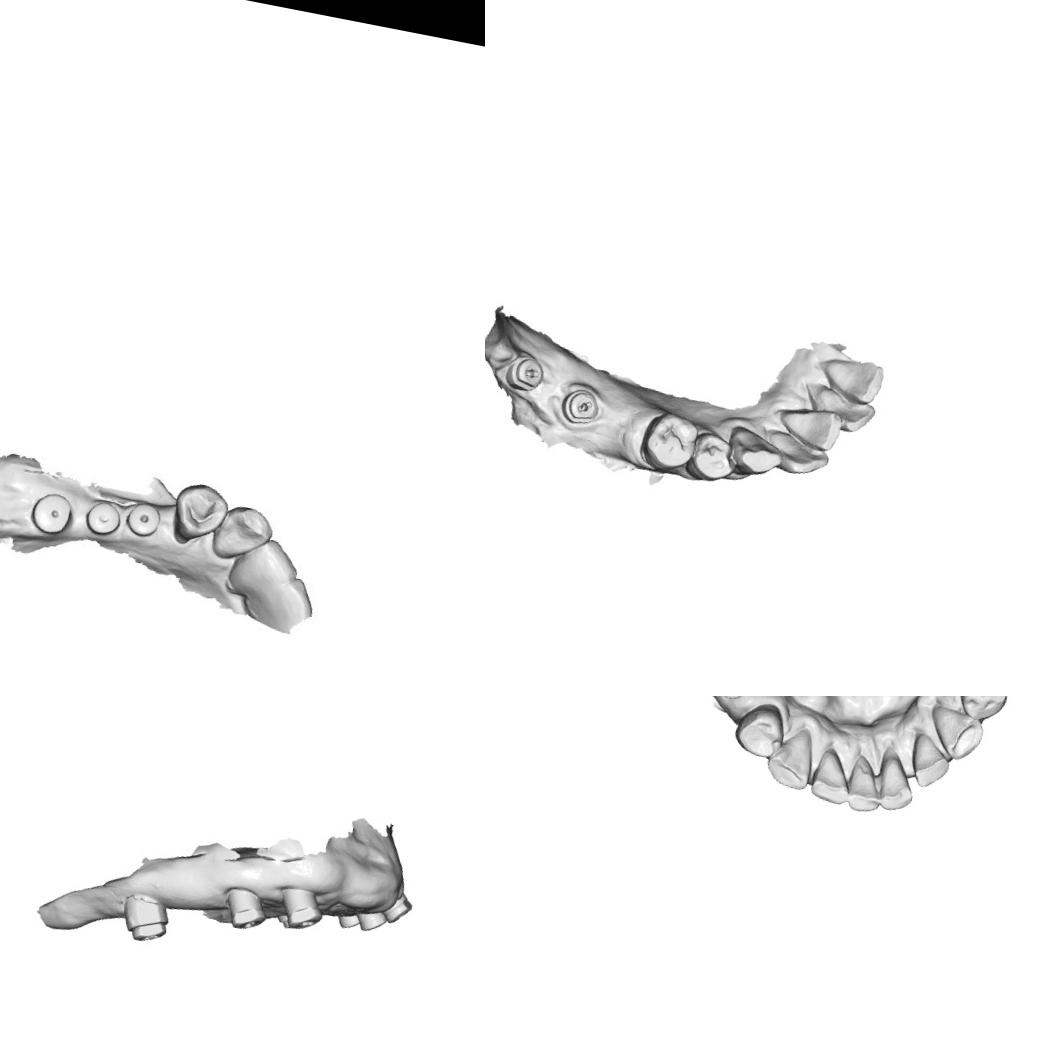canine: (207, 496, 279, 570), (759, 720, 820, 792), (924, 702, 989, 766), (722, 424, 787, 482)
implant: (115, 890, 174, 947), (272, 882, 328, 935), (219, 882, 271, 934), (29, 488, 77, 540), (81, 498, 128, 542), (378, 887, 416, 926), (124, 500, 158, 538), (354, 906, 389, 934), (333, 908, 361, 931)
implant_minus: (502, 352, 547, 396), (558, 384, 602, 427)
incisor: (224, 526, 306, 608), (773, 400, 846, 454), (815, 353, 886, 408), (764, 428, 832, 480), (870, 746, 922, 814), (808, 386, 878, 436), (805, 744, 859, 807), (903, 730, 956, 792), (841, 752, 890, 816)
premolar: (637, 406, 702, 477), (728, 696, 790, 760), (170, 482, 222, 551), (686, 429, 740, 486), (951, 696, 1012, 726)
